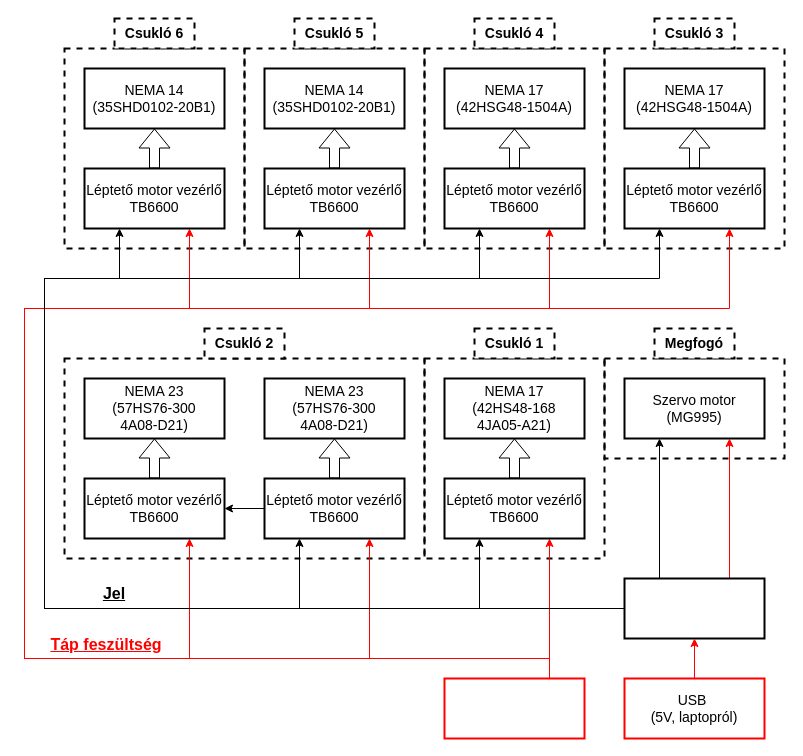
The diagram is 803 pixels wide and 756 high, and some of its shapes have lost their labels. The centre of each missing label's shape, as x and y in pixels:
Arduino MEGA 2560: (694,608)
Tápegység (12 V DC / min 15 A): (514,708)
